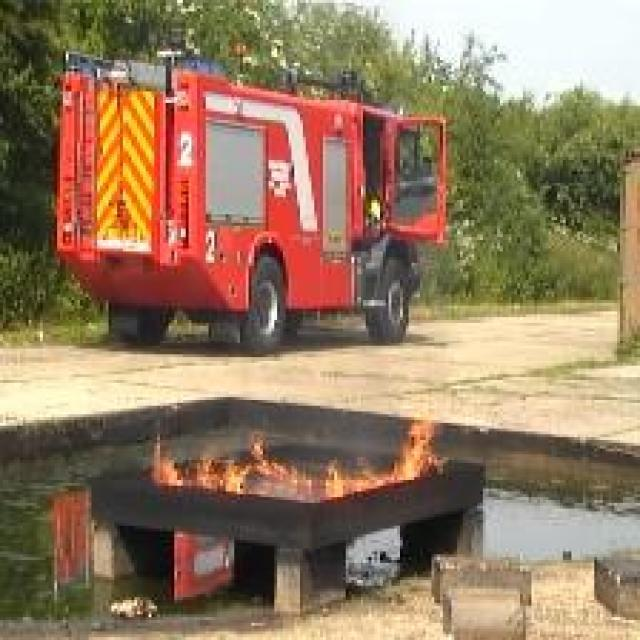Fire: (327, 402, 450, 498), (248, 437, 312, 489), (196, 446, 250, 498), (151, 436, 183, 488)
